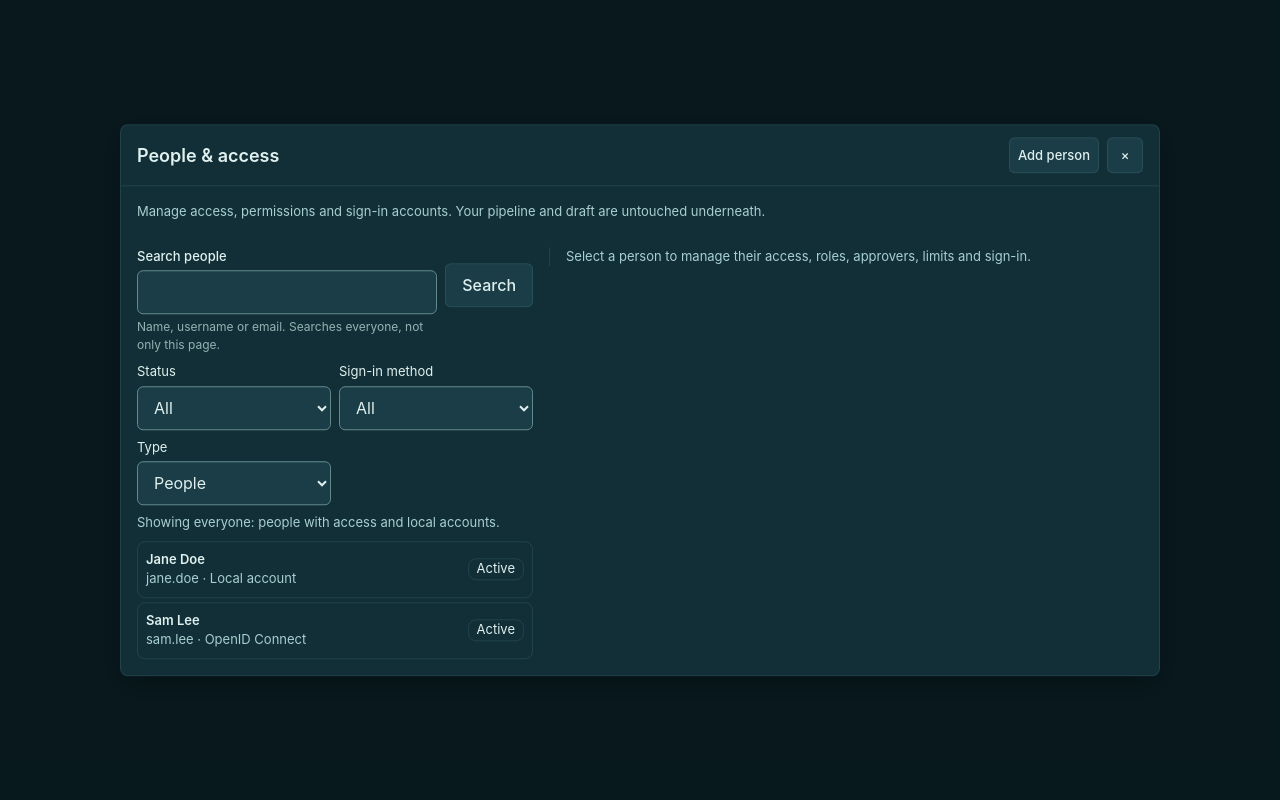
PeopleAccessDialog › drops the identity half at once when that capability is lost while open
What coordinates should you click on to do the following:
click the button "Jane Doe jane.doe · Local account Active"
I would click on:
 (175, 559)
Its box is [137,541,533,598].
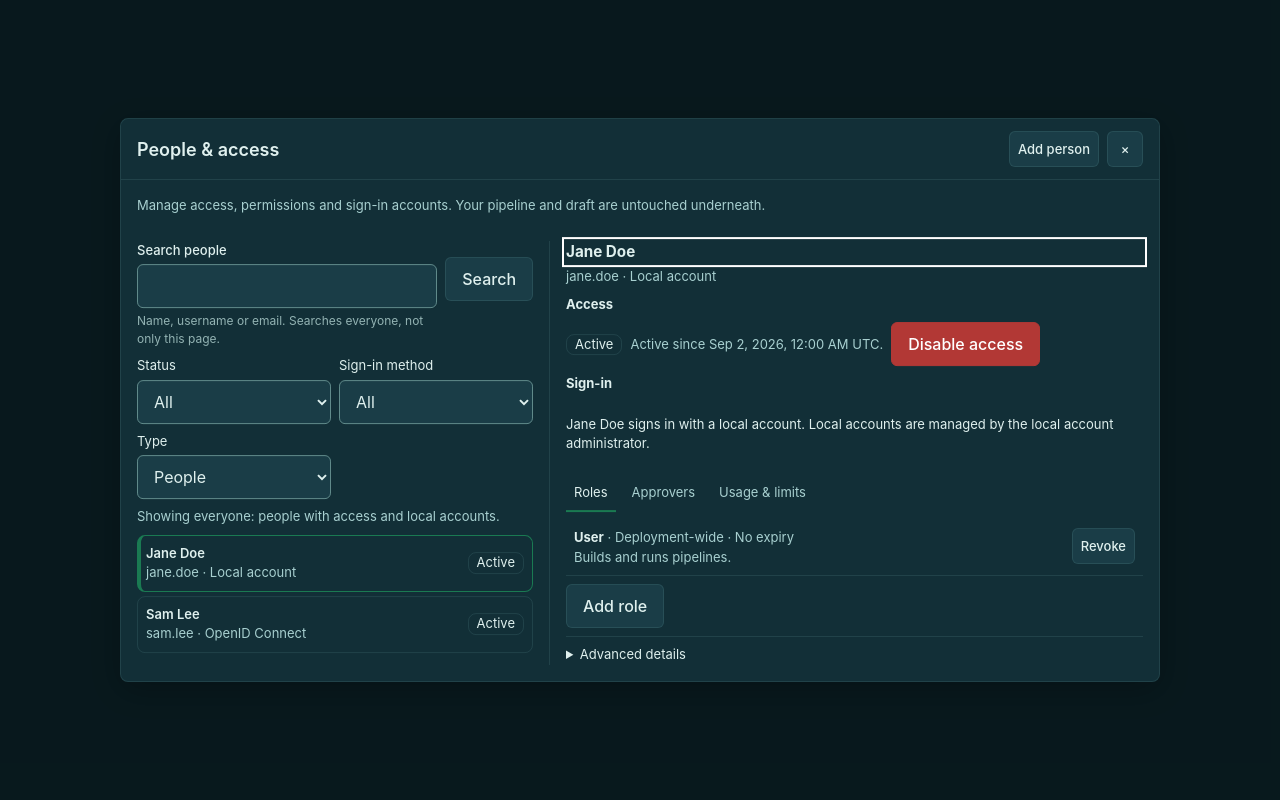
What coordinates should you click on to do the following:
click the button "Add role"
I would click on:
 (615, 606)
Its box is [566,584,664,628].
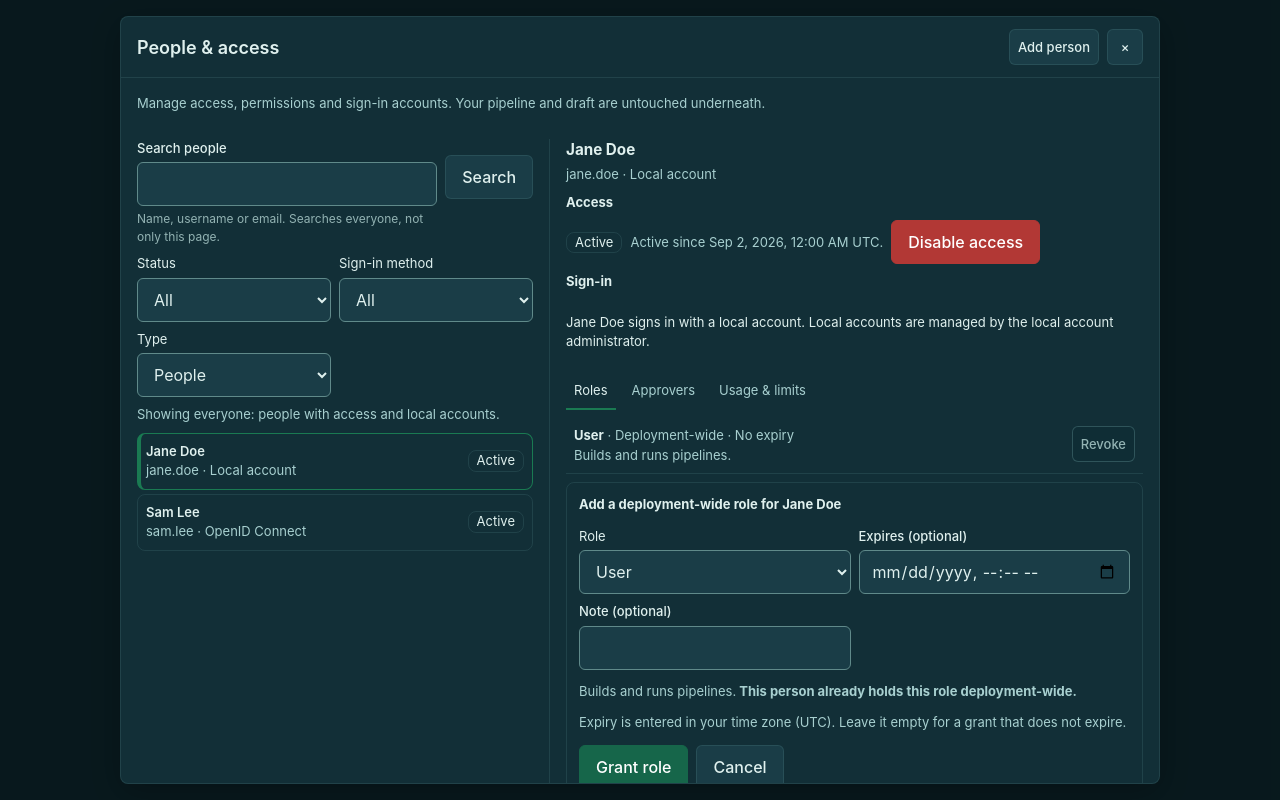
What coordinates should you click on to do the following:
click the button "Grant role"
I would click on:
 (634, 767)
Its box is [579,745,688,789].
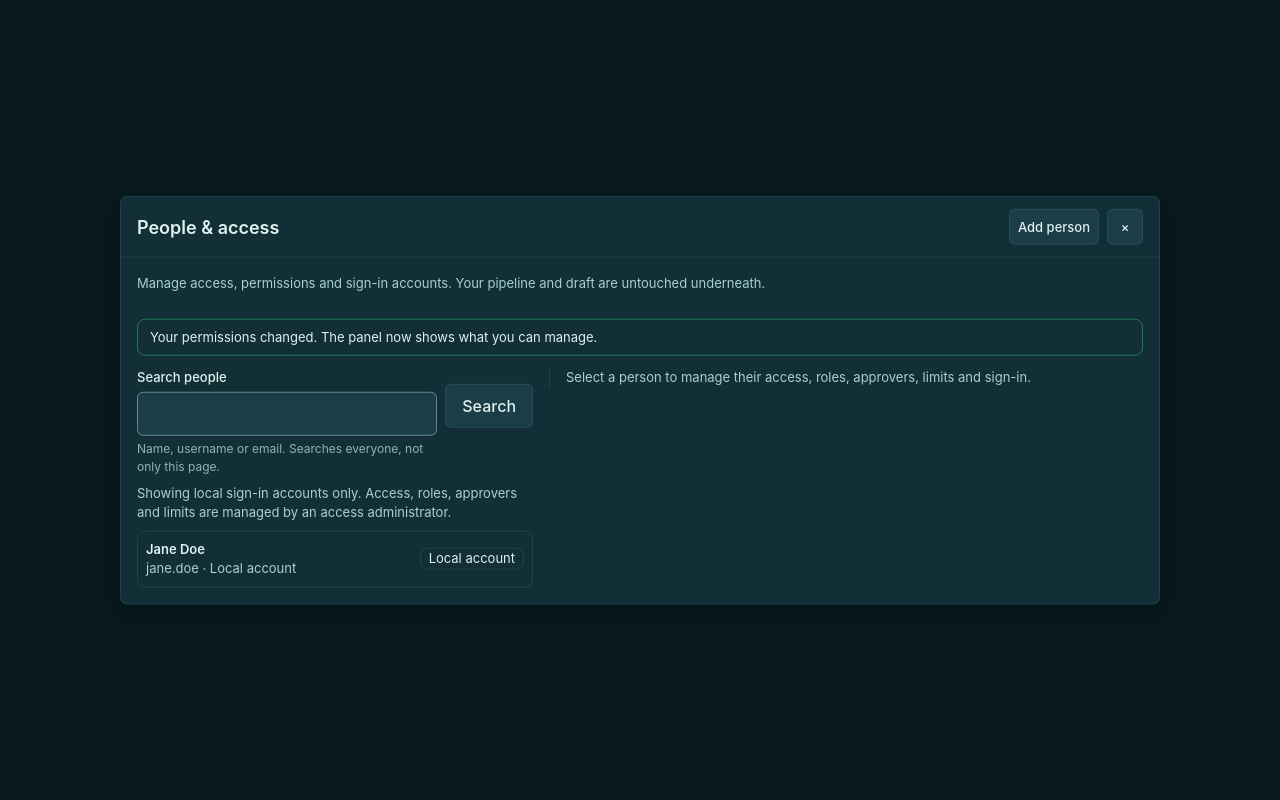
Expected: the text "Your permissions changed. The panel now shows what you can manage." is shown, [137,318,1143,356]
Expected: the button "Disable access" is gone
Expected: the text "Showing local sign-in accounts only" is shown, [137,484,517,520]
